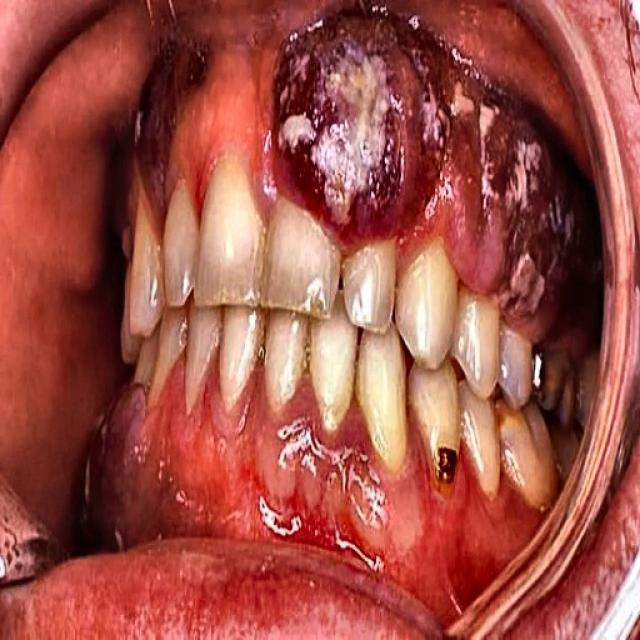cancer-detection: (267, 7, 575, 317)
processing_area: (2, 0, 579, 639)
